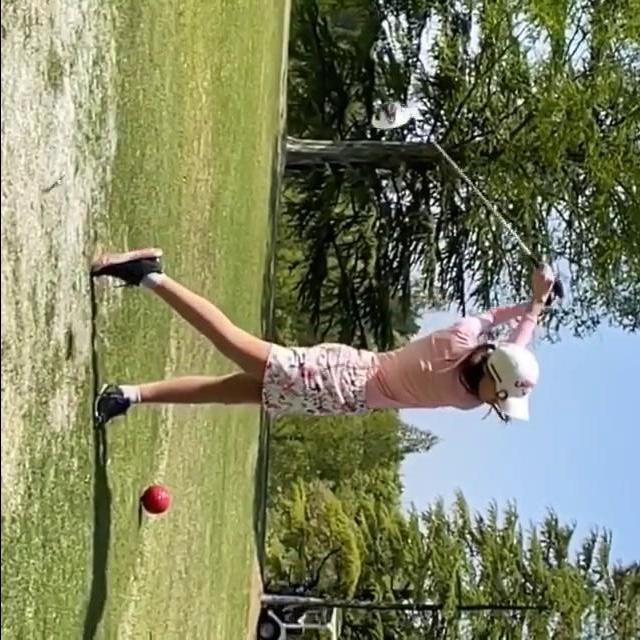golf club-handle: (368, 102, 564, 299)
golf club-head: (368, 102, 407, 129)
